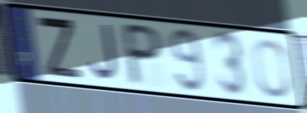3: (210, 27, 248, 102)
9: (166, 25, 208, 95)
J: (88, 22, 121, 82)
O: (250, 37, 293, 100)
P: (122, 20, 164, 87)
Z: (34, 14, 85, 82)
